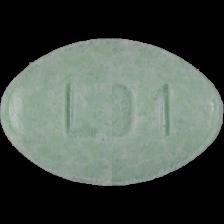43063-493: (0, 0, 224, 224)
